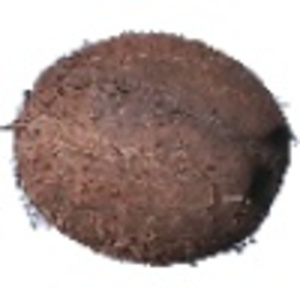coco: (5, 32, 300, 266)
